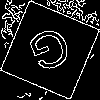G: (25, 25, 79, 82)
